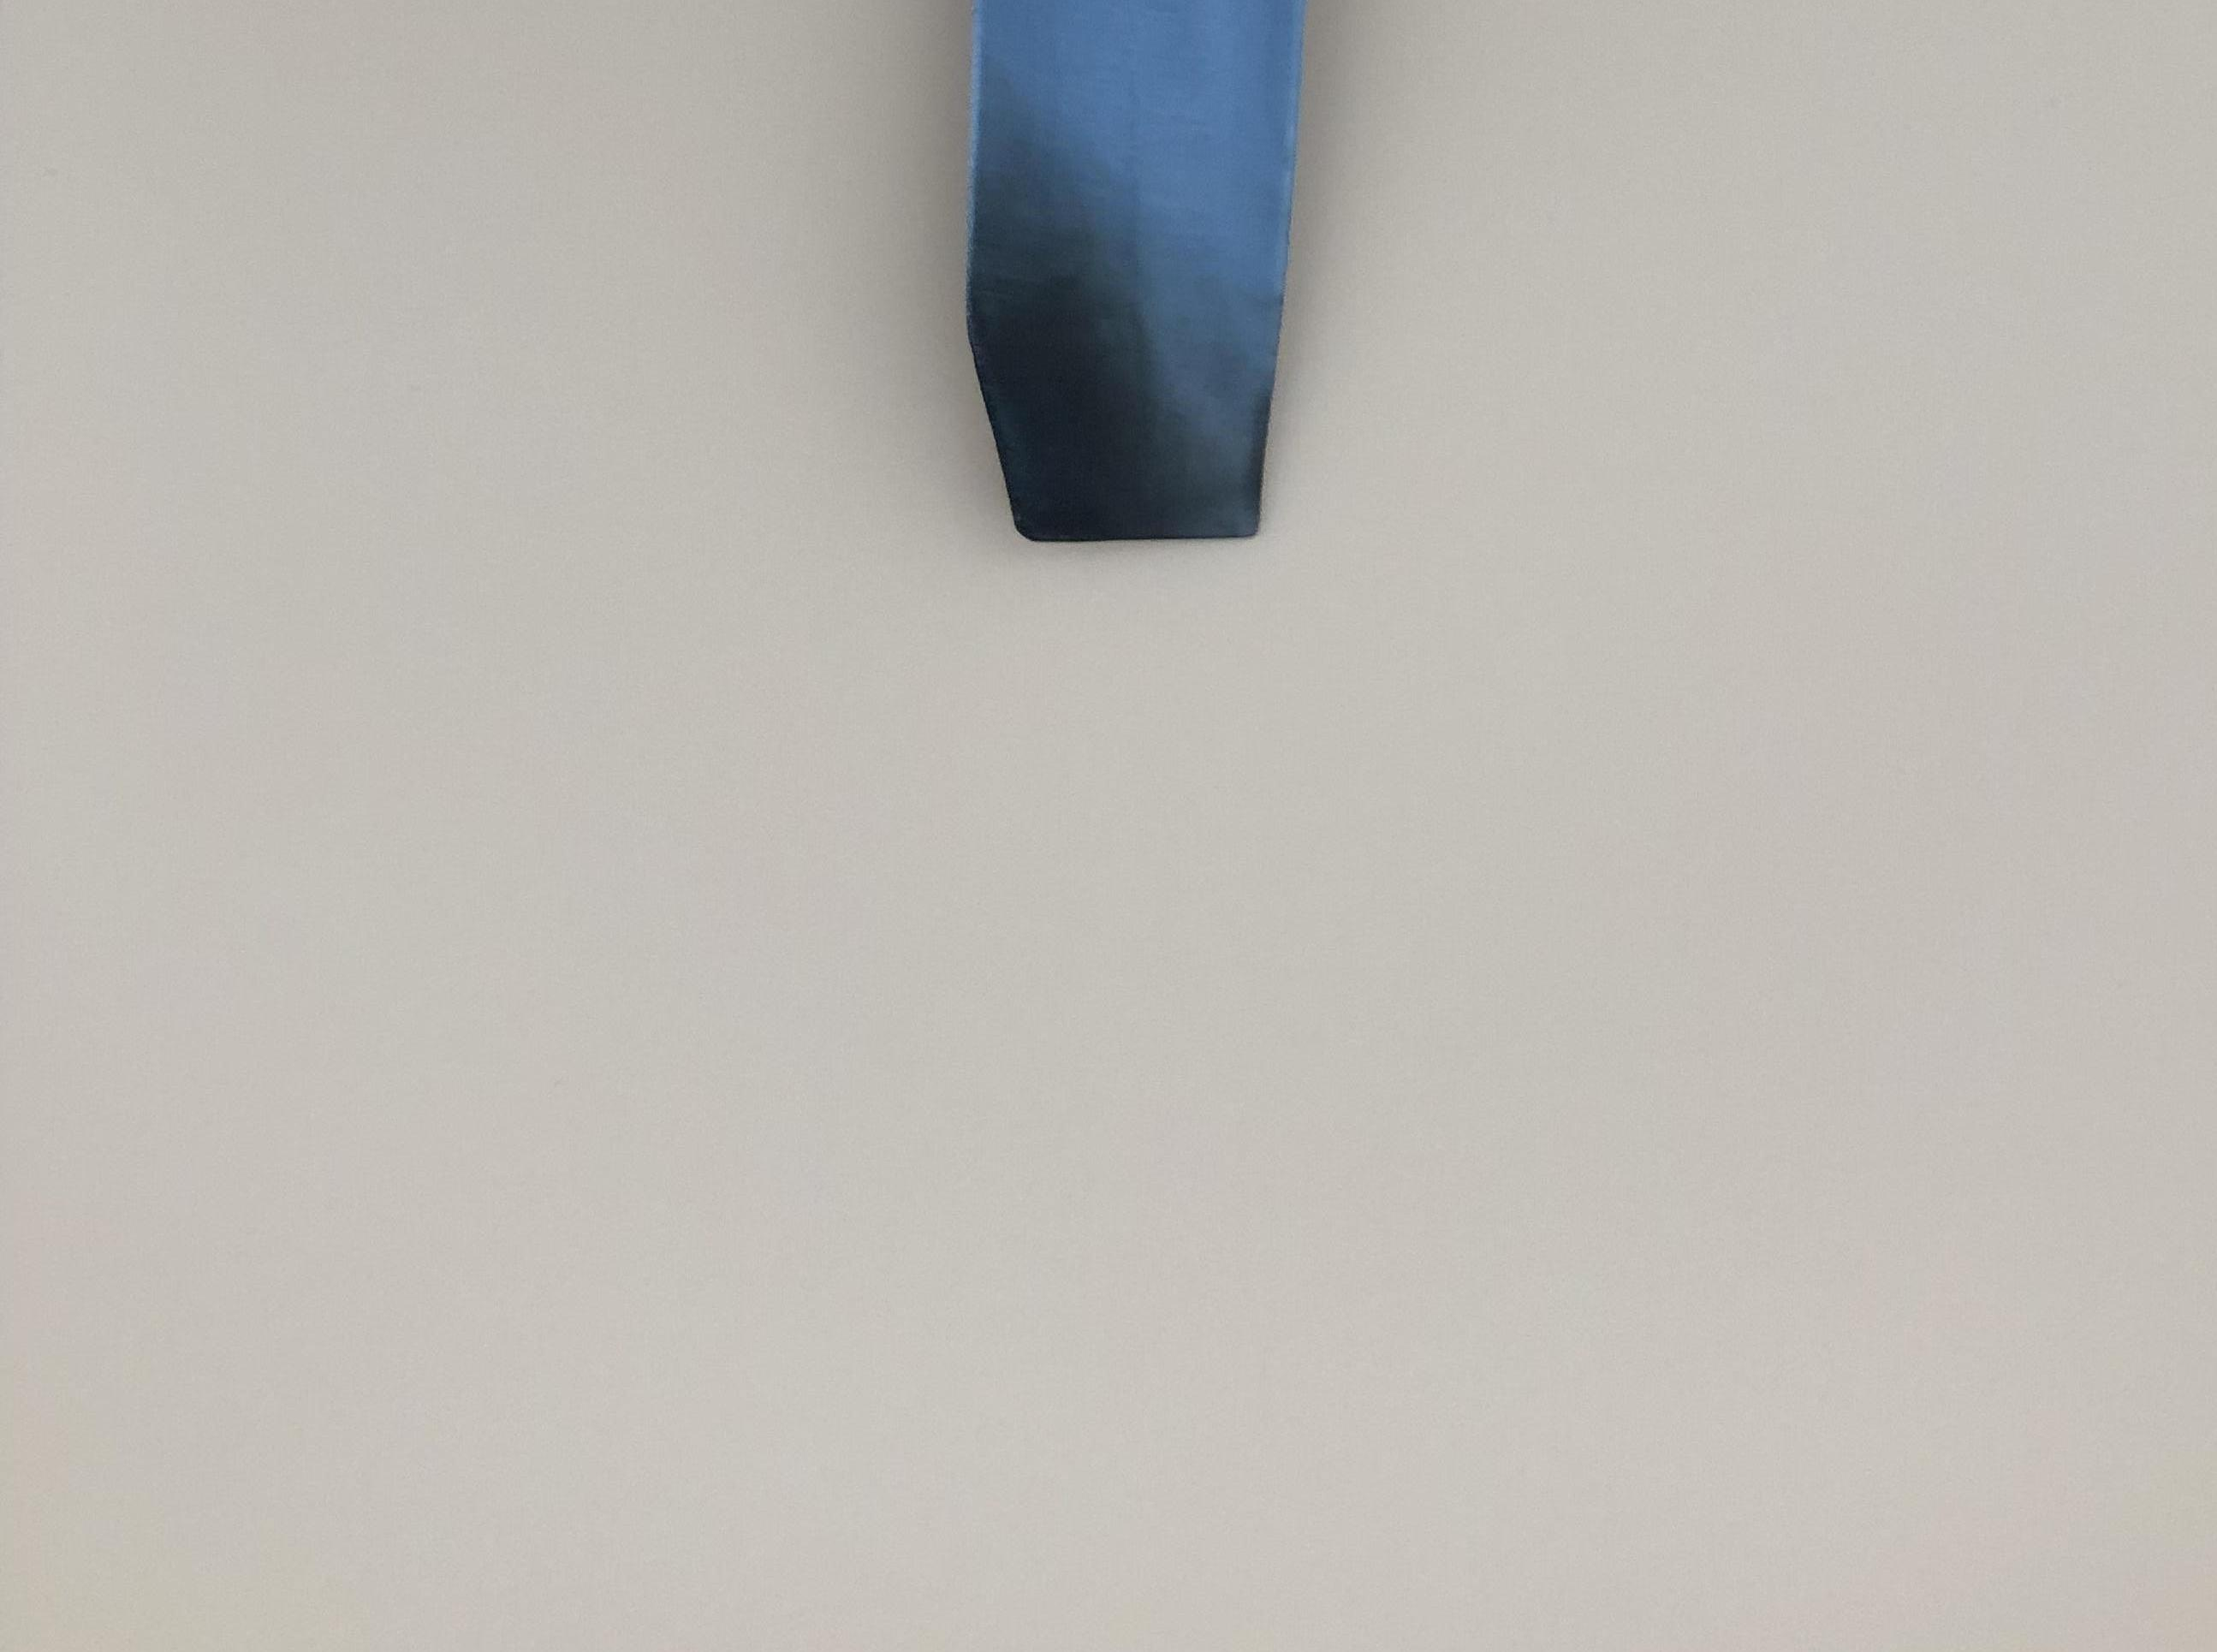ablation: (975, 297, 1239, 526)
